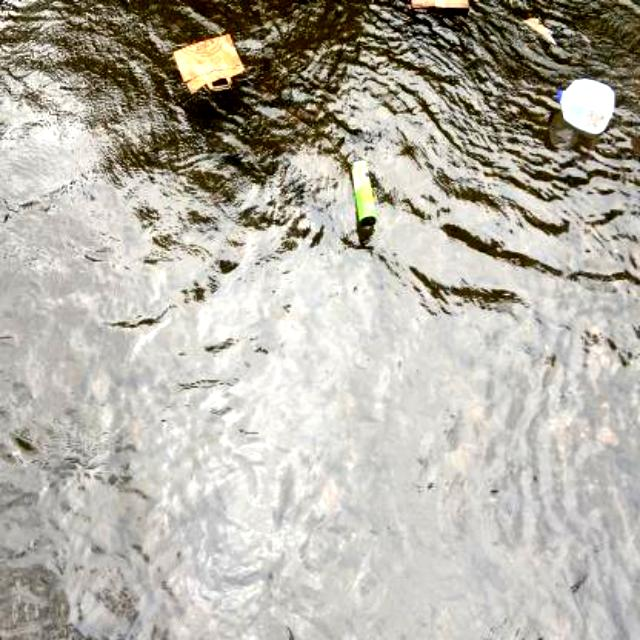Metal: (348, 160, 378, 228)
Paper: (175, 32, 245, 96), (408, 0, 472, 14)
Plastic: (557, 74, 615, 138)
